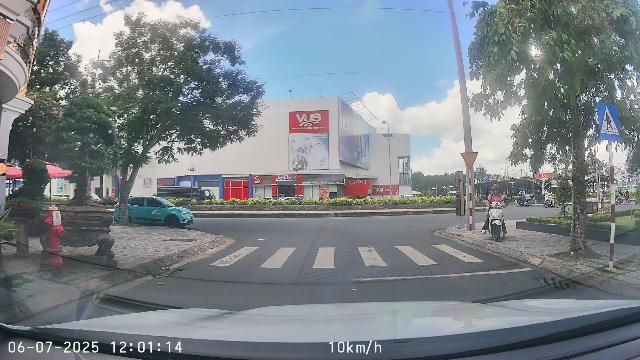208-giao-nhau-voi-duong-uu-tien: (460, 153, 478, 170)
423a-duong-nguoi-di-bo-sang-ngang-1: (598, 102, 621, 141)
